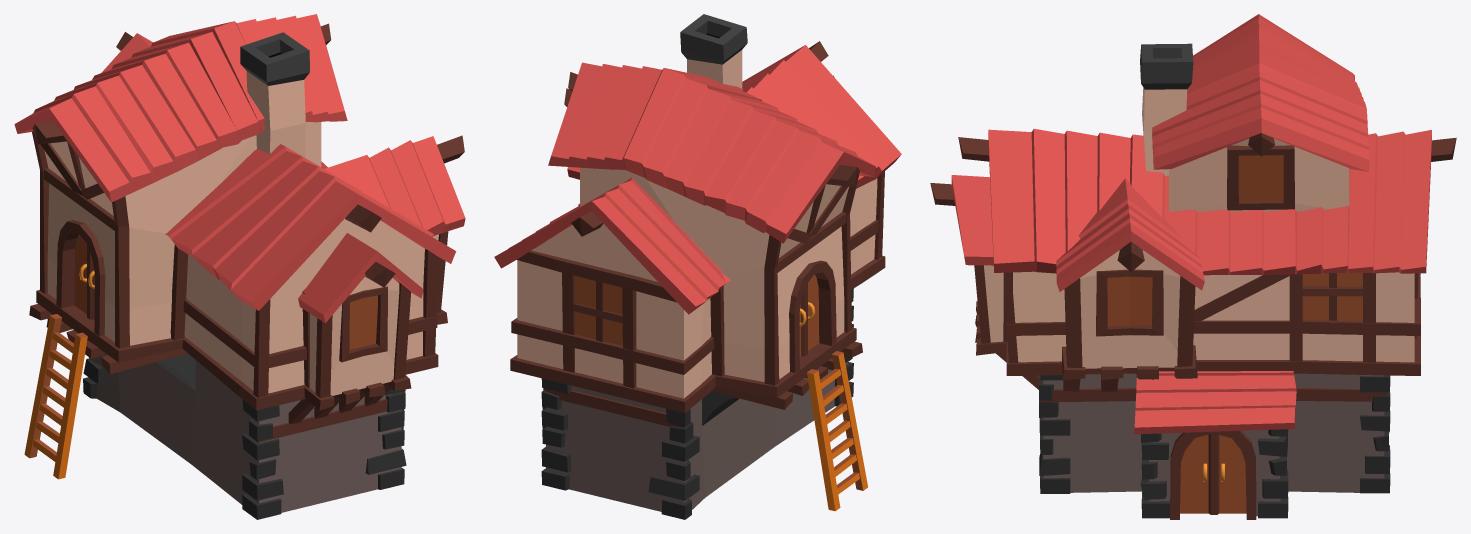
File: House_4.glb
The picture shows the model from 3 angles, left to right: view 1: azimuth 30°, elevation 25°; view 2: azimuth 150°, elevation 25°; view 3: azimuth 270°, elevation 25°; orthographic projection. The views are drawn at different scales.
Parts seen in each view (by area): view 1: Cube.029_Medieval_0, Cube.049_Medieval_0, Cube.028_Medieval_0, Cube.035_Medieval_0, Cube.034_Medieval_0, Cube.037_Medieval_0, Cube.038_Medieval_0; view 2: Cube.029_Medieval_0, Cube.049_Medieval_0, Cube.028_Medieval_0, Cube.035_Medieval_0, Cube.034_Medieval_0, Cube.037_Medieval_0; view 3: Cube.029_Medieval_0, Cube.049_Medieval_0, Cube.028_Medieval_0, Cube.034_Medieval_0.
Part boxes in pixels (x1,y1,x2,y2): Cube.029_Medieval_0: (29, 32, 448, 512); Cube.049_Medieval_0: (14, 14, 465, 322); Cube.028_Medieval_0: (83, 354, 406, 519); Cube.035_Medieval_0: (24, 314, 87, 479); Cube.034_Medieval_0: (116, 32, 381, 232); Cube.037_Medieval_0: (32, 121, 66, 144); Cube.038_Medieval_0: (437, 135, 464, 163); Cube.029_Medieval_0: (510, 14, 885, 511); Cube.049_Medieval_0: (494, 45, 901, 314); Cube.028_Medieval_0: (541, 288, 853, 519); Cube.035_Medieval_0: (807, 351, 867, 511); Cube.034_Medieval_0: (571, 41, 828, 236); Cube.037_Medieval_0: (826, 165, 859, 187); Cube.029_Medieval_0: (974, 43, 1420, 519); Cube.049_Medieval_0: (951, 14, 1431, 434); Cube.028_Medieval_0: (1038, 375, 1390, 518); Cube.034_Medieval_0: (958, 137, 1456, 161).
Size of what is drawn, in the model's own units: 5.65 by 6.04 by 7.02.
1 material, 1 textured.
